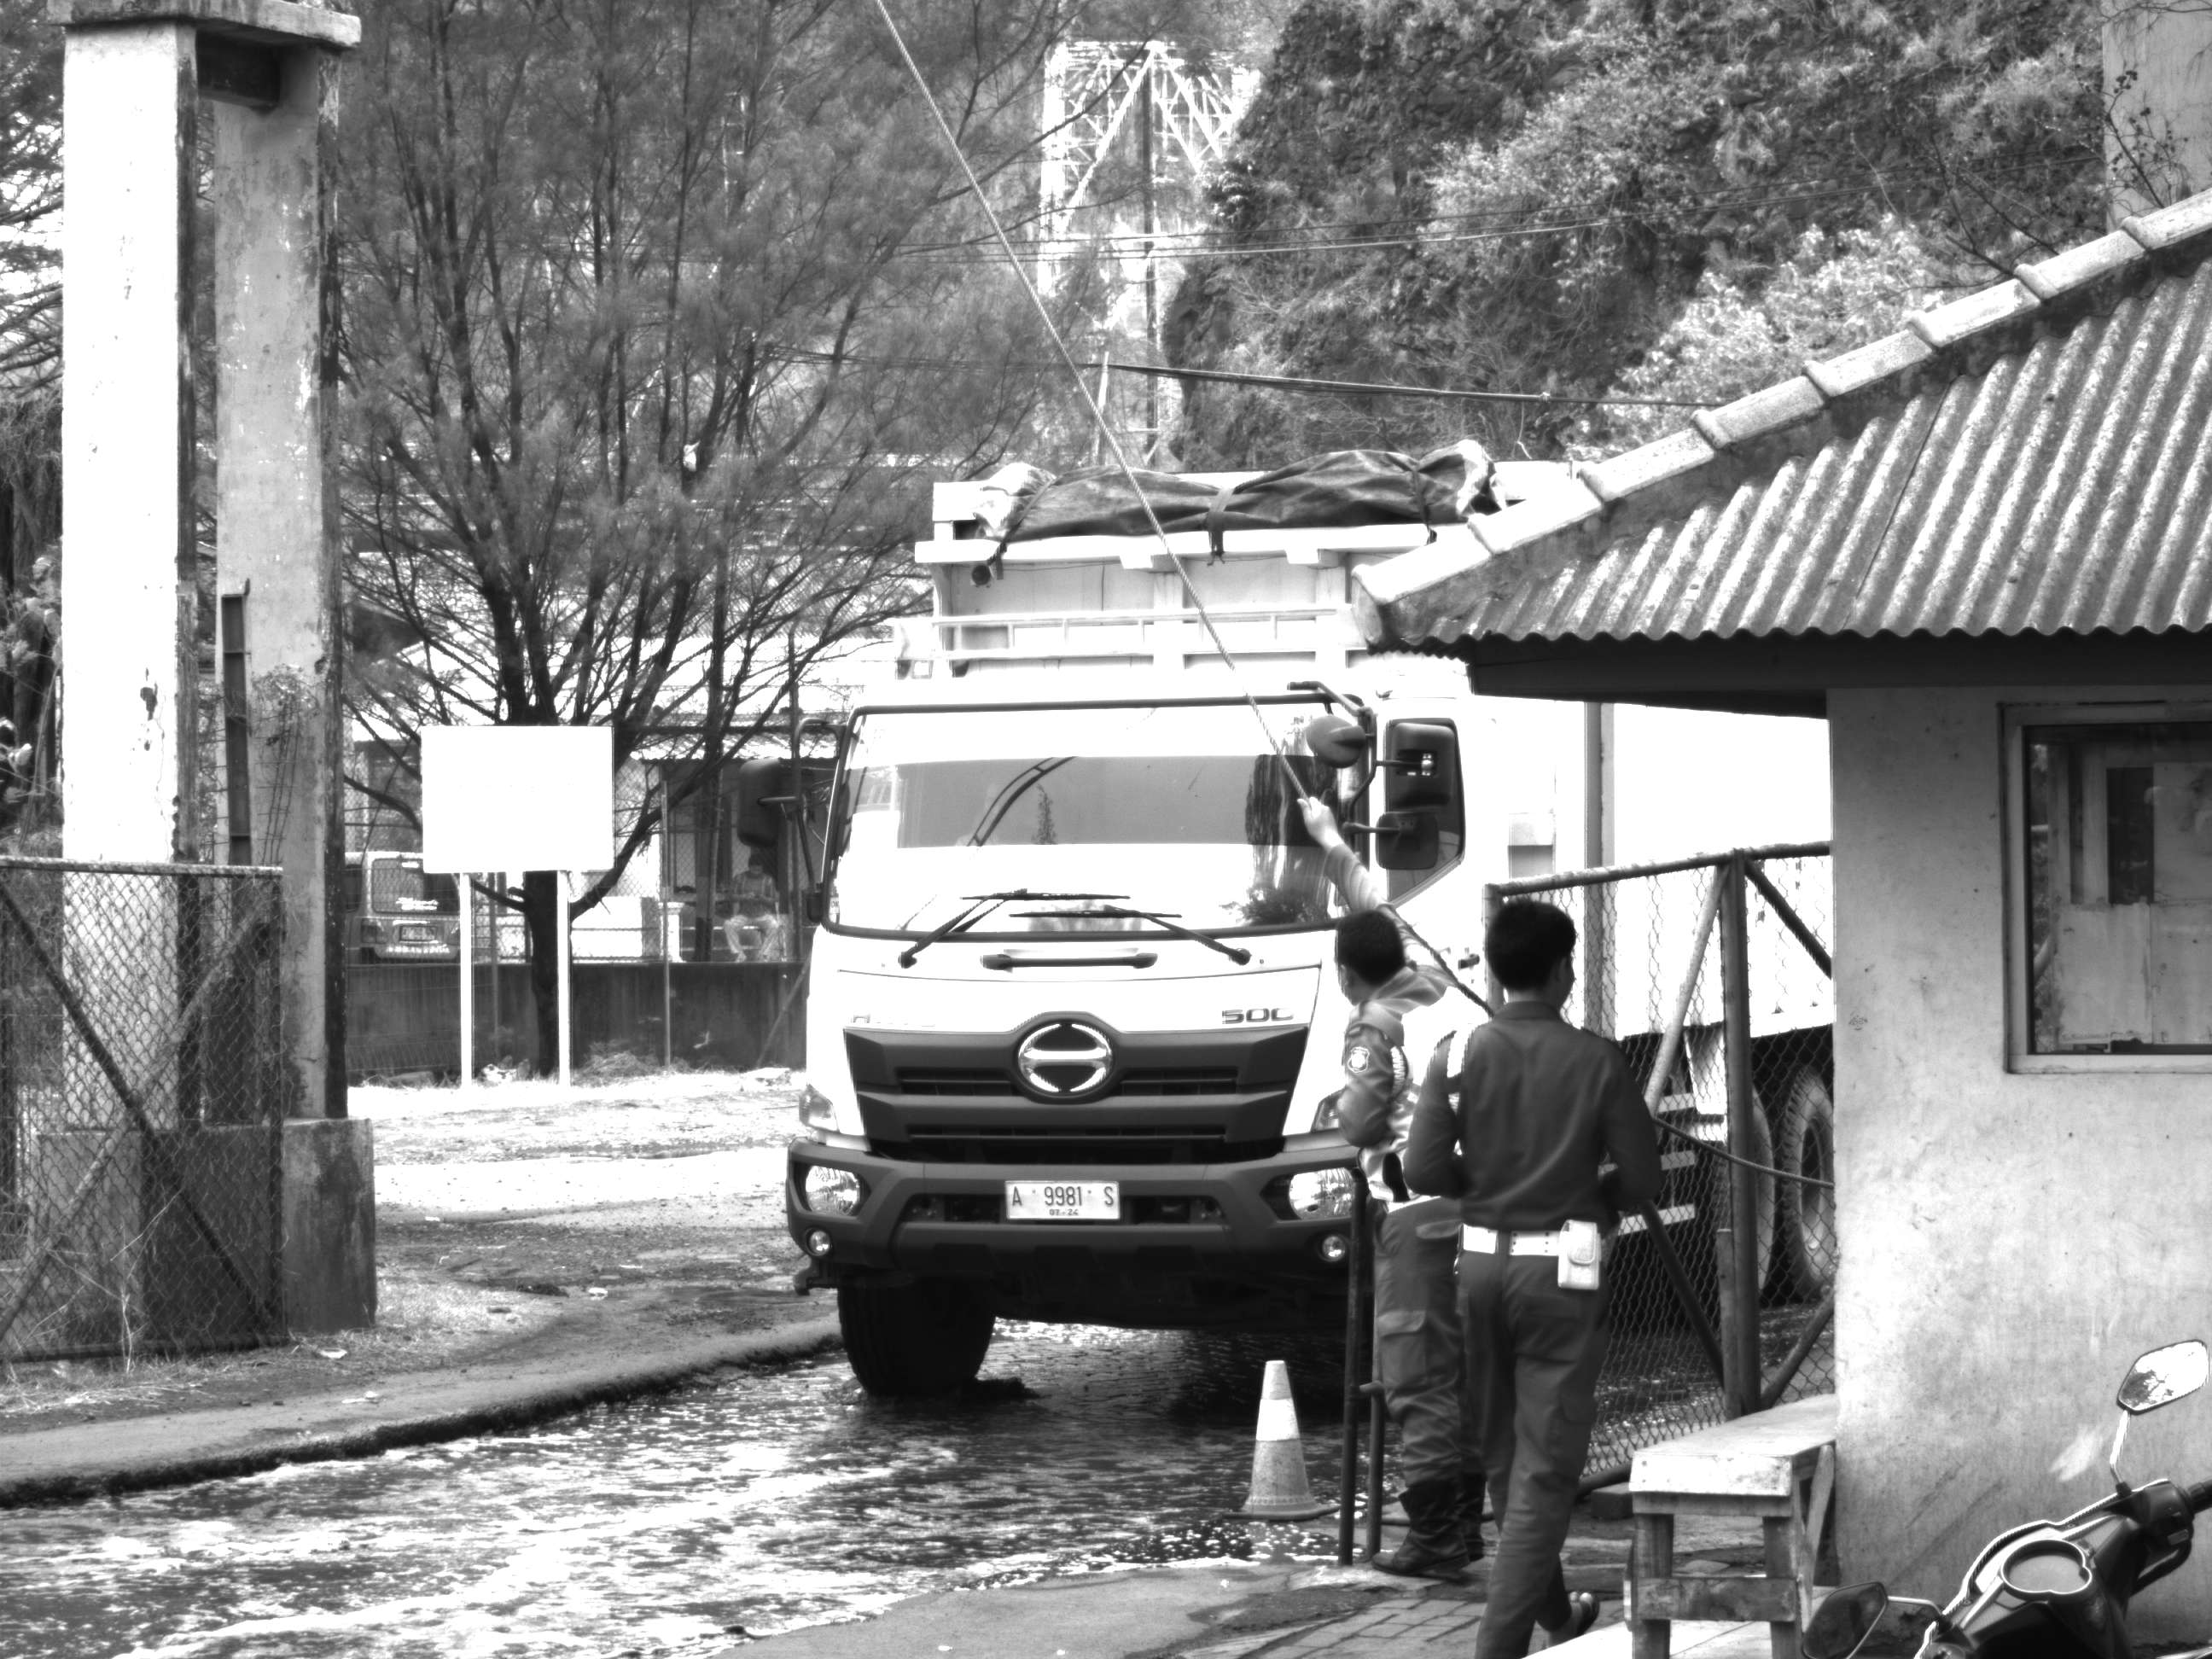day_truck_front: (784, 591, 1481, 1405)
plate: (1002, 1177, 1125, 1227)
